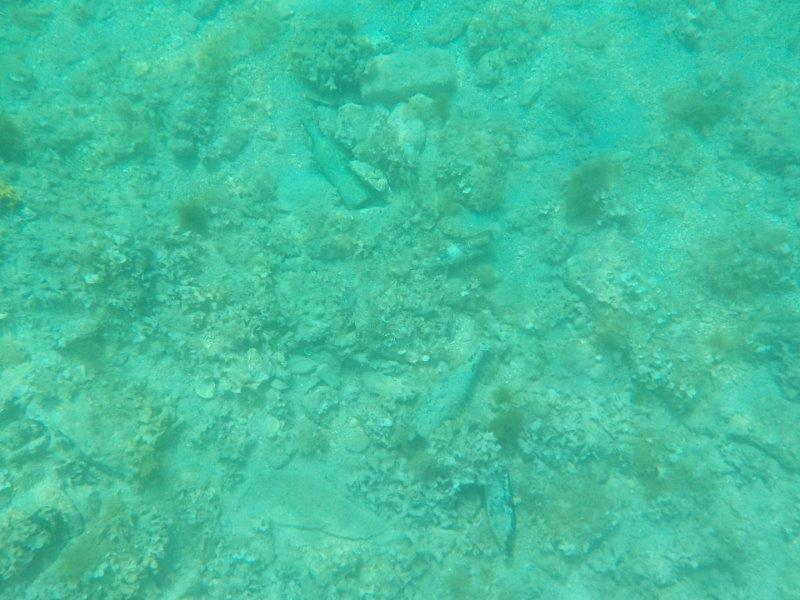bottle: (414, 339, 493, 445), (412, 228, 502, 275), (481, 462, 517, 561)
